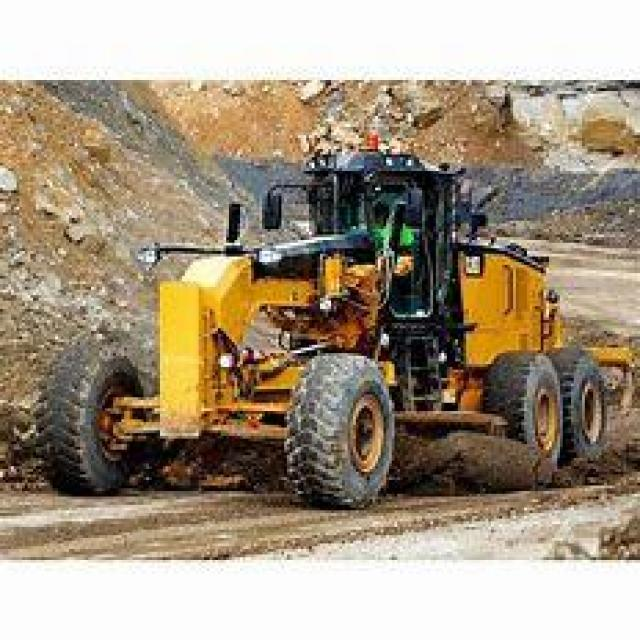Grader: (44, 141, 615, 527)
